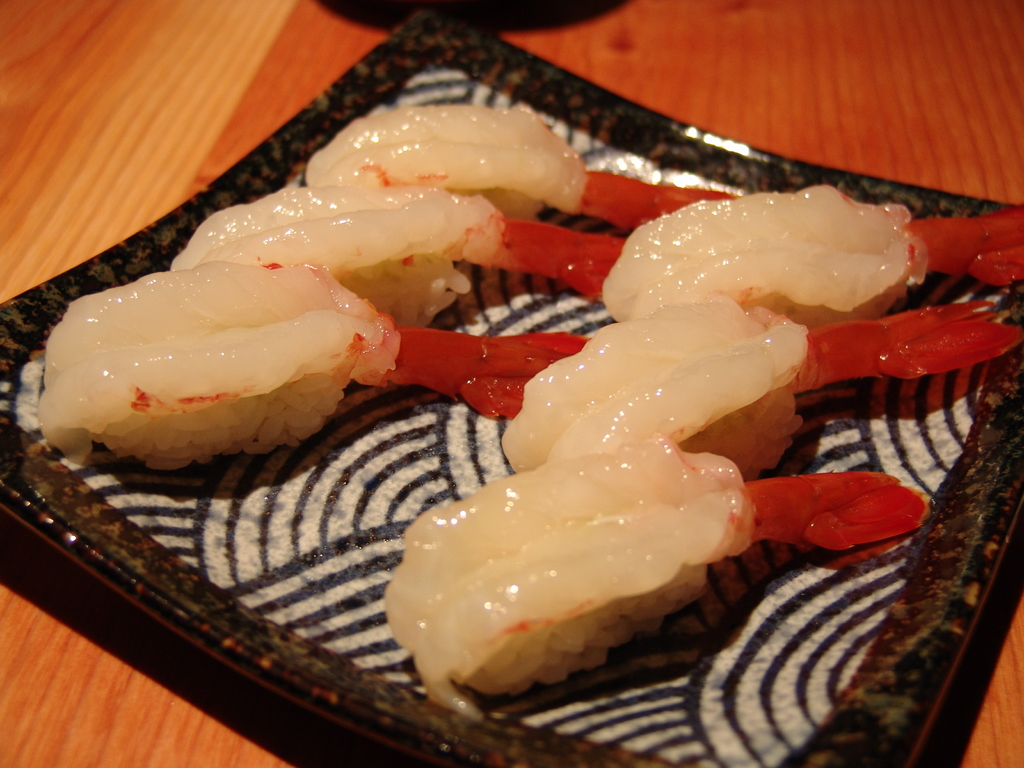sushi: (40, 104, 1023, 712), (40, 260, 594, 470)
